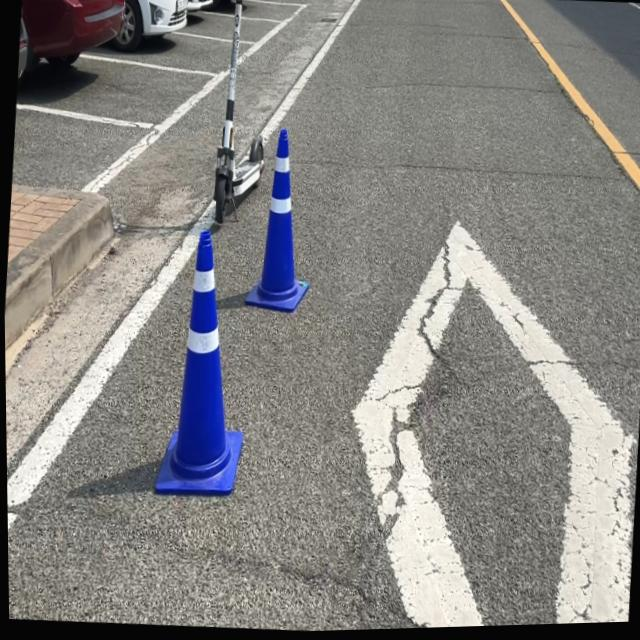b_rub: (153, 231, 241, 496), (244, 128, 308, 312)
